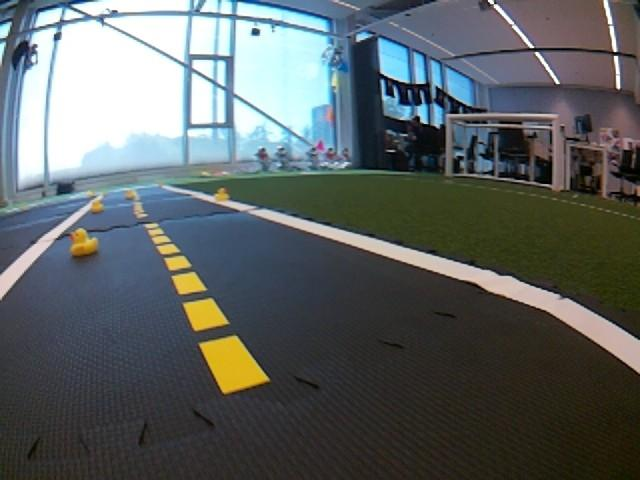Duckies: (70, 228, 99, 256), (214, 188, 230, 201), (90, 201, 105, 213), (126, 191, 137, 199)
